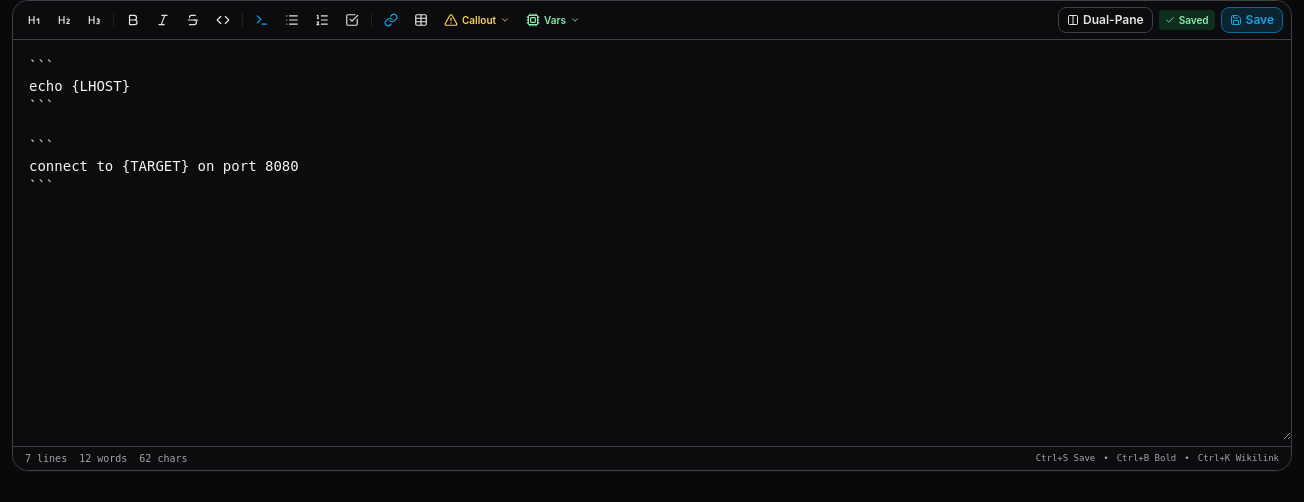
Scenario: MarkdownEditor preview copy buttons › adds a Copy button to each <pre> that copies the resolved text
Click the button titled "Toggle Dual-Pane Split Preview". click: (1105, 20)
box: [1058, 7, 1153, 33]
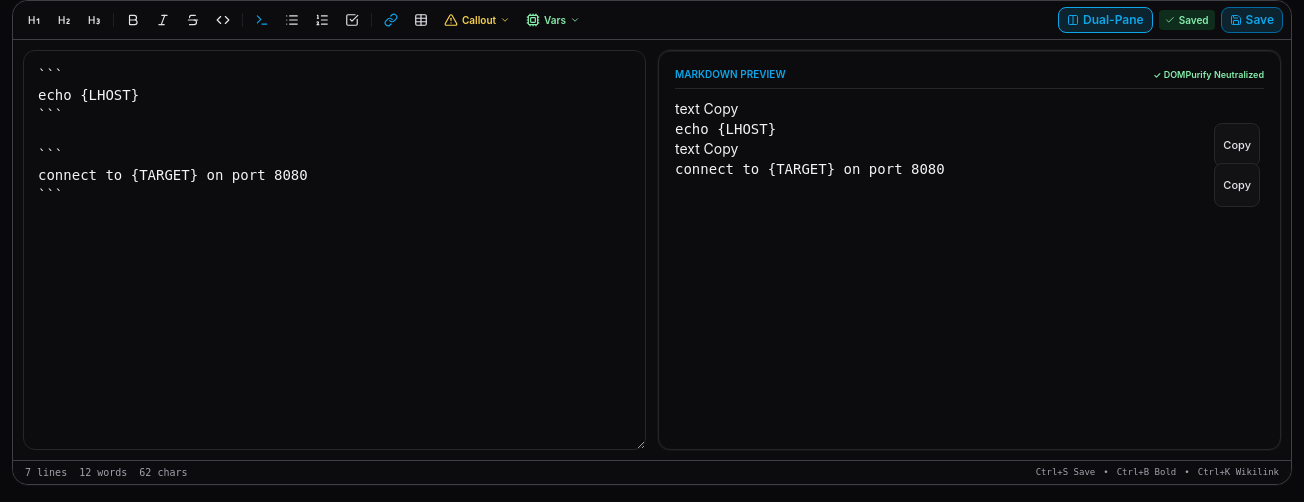
Expected: the number of buttons named "Copy resolved command" is 2
Click the button with aria-label "Copy resolved command". click: (1237, 185)
box: [1214, 163, 1260, 207]
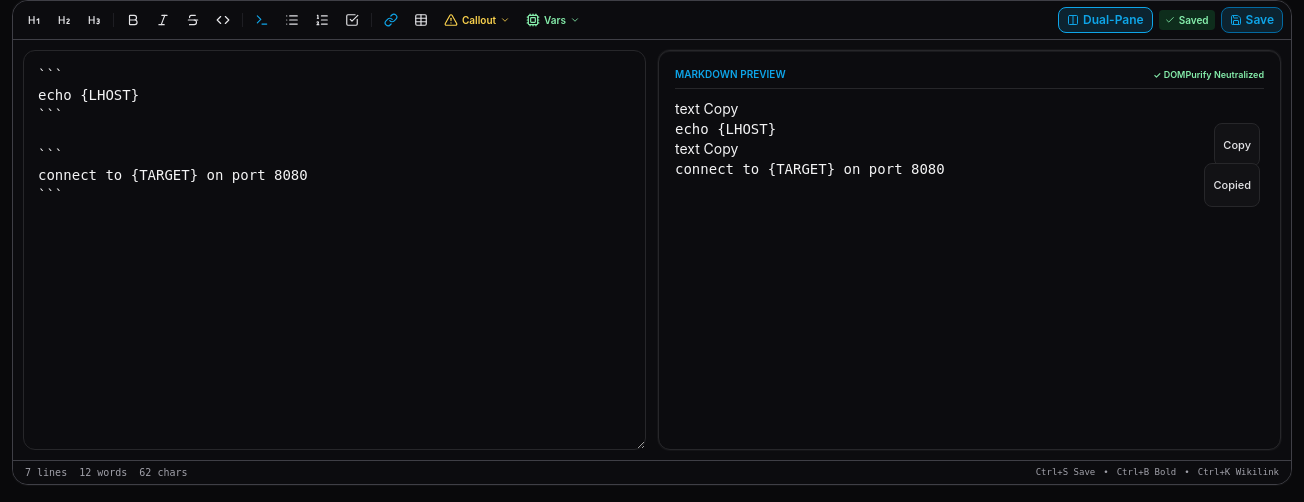
Expected: the button with aria-label "Copy resolved command" reads "Copied", [1204, 163, 1260, 207]
